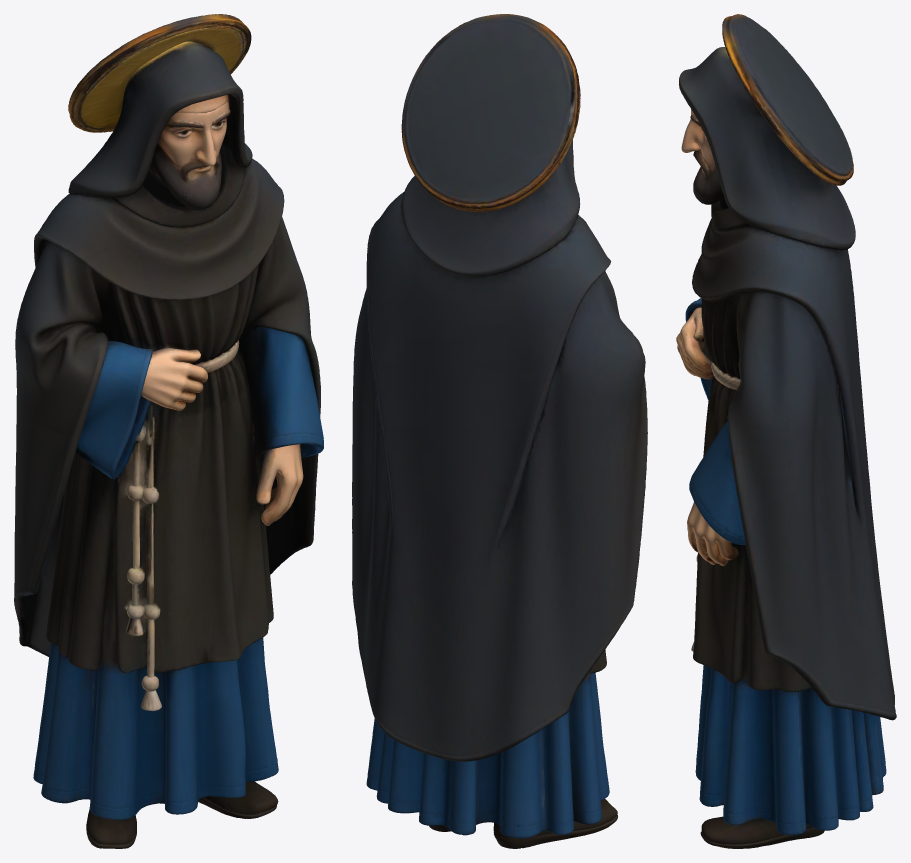
Rendered from monk.glb.
3 views of the same model, side by side, from view 1: azimuth 30°, elevation 25°; view 2: azimuth 150°, elevation 25°; view 3: azimuth 270°, elevation 25° (orthographic). The views are drawn at different scales.
Parts seen in each view (by area): view 1: node_0; view 2: node_0; view 3: node_0.
Part boxes in pixels (box(x1,y1,x2,y2)): node_0: box(14, 14, 323, 848); node_0: box(352, 14, 647, 848); node_0: box(676, 14, 896, 848).
Bounding box in the file's own units: 0.4338 × 1.16 × 0.2945.
1 material, 1 textured.
